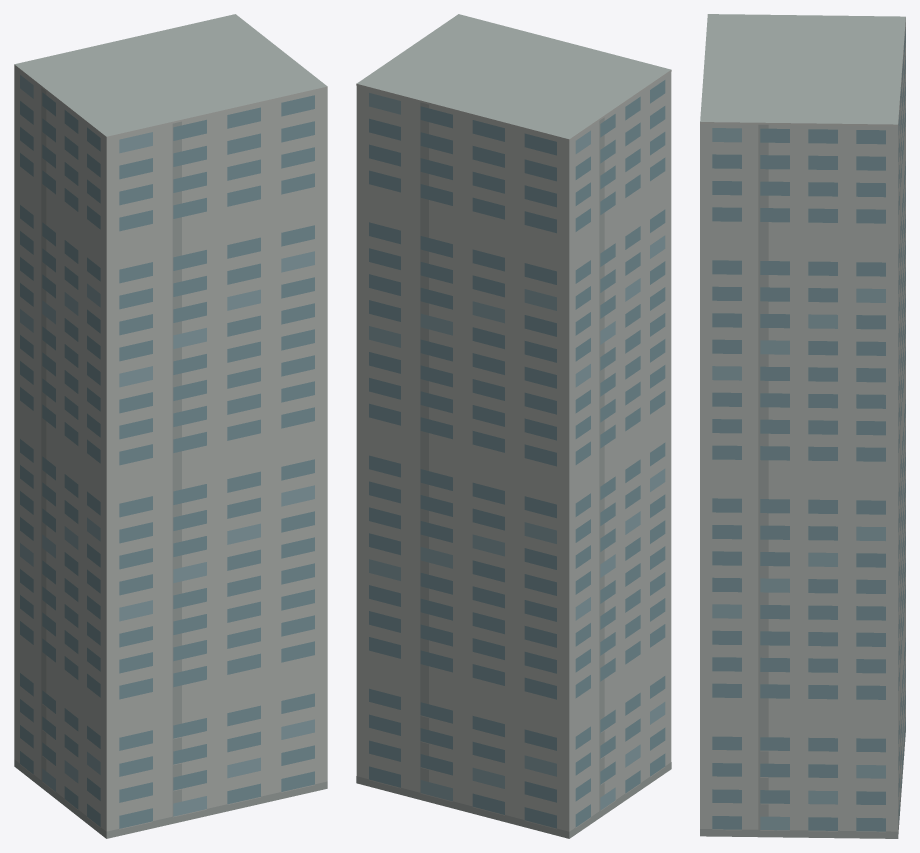
Rendered from residential-f1f8c54b-d9b0-4c81-a401-b42f8f0f9bca.glb.
The picture shows the model from 3 angles, left to right: view 1: azimuth 30°, elevation 25°; view 2: azimuth 150°, elevation 25°; view 3: azimuth 270°, elevation 25°; orthographic projection. The views are drawn at different scales.
Parts seen in each view (by area): view 1: residential-f1f8c54b-d9b0-4c81-a401-b42f8f0f9bca.tmp; view 2: residential-f1f8c54b-d9b0-4c81-a401-b42f8f0f9bca.tmp; view 3: residential-f1f8c54b-d9b0-4c81-a401-b42f8f0f9bca.tmp.
Part boxes in pixels (x1,y1,x2,y2): residential-f1f8c54b-d9b0-4c81-a401-b42f8f0f9bca.tmp: (14,14,327,838); residential-f1f8c54b-d9b0-4c81-a401-b42f8f0f9bca.tmp: (356,14,671,838); residential-f1f8c54b-d9b0-4c81-a401-b42f8f0f9bca.tmp: (700,14,905,838).
Bounding box in the file's own units: 29.88 × 90 × 23.51.
